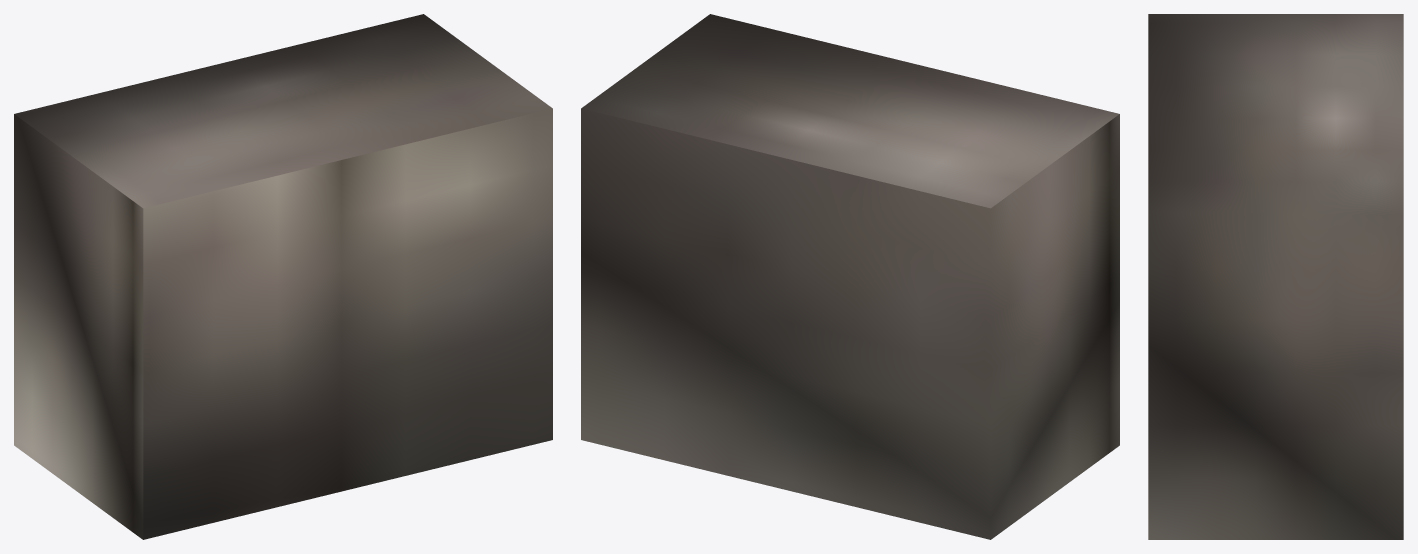
Rendered from spacer1.glb.
The picture shows the model from 3 angles, left to right: view 1: azimuth 30°, elevation 25°; view 2: azimuth 150°, elevation 25°; view 3: azimuth 270°, elevation 25°; orthographic projection.
Parts seen in each view (by area): view 1: spacer1; view 2: spacer1; view 3: spacer1.
Boxes of the visible parts, bbox=[...] form: spacer1: bbox=[14, 14, 552, 539]; spacer1: bbox=[581, 14, 1119, 539]; spacer1: bbox=[1148, 14, 1403, 539].
Bounding box in the file's own units: 5.17 × 4 × 2.82.
Materials: 1 (1 with a texture image).
